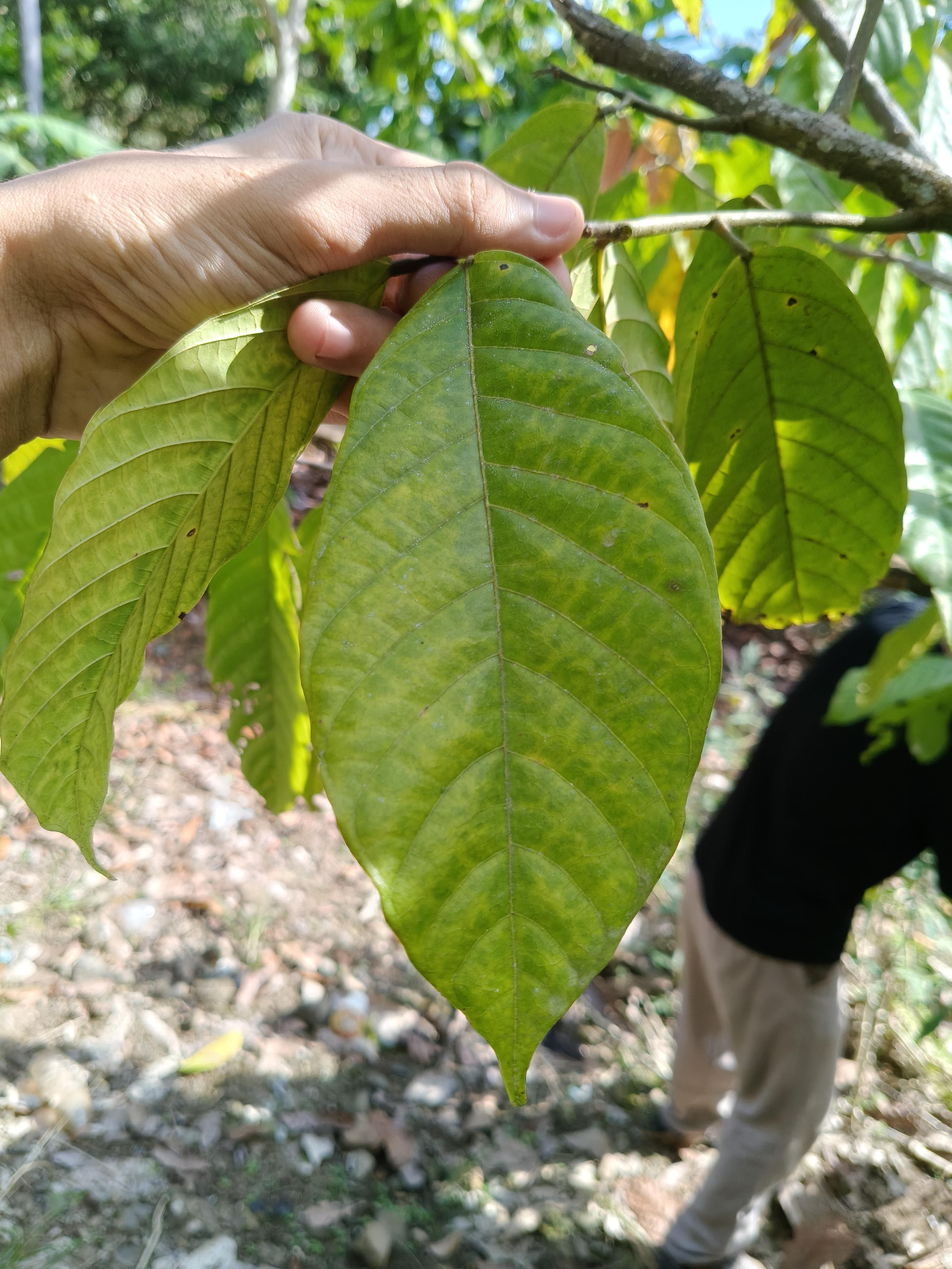deficiencia_potasio: (293, 221, 721, 1102)
